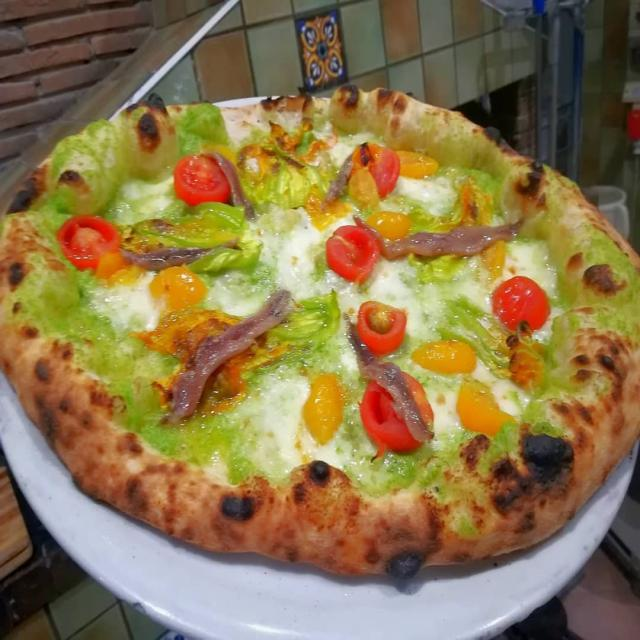pizza: (0, 85, 640, 578)
tomatoes: (360, 380, 421, 456), (56, 215, 120, 270), (493, 277, 550, 330), (326, 225, 379, 282), (174, 157, 230, 205), (358, 300, 407, 354), (369, 148, 400, 198), (349, 167, 380, 210)
